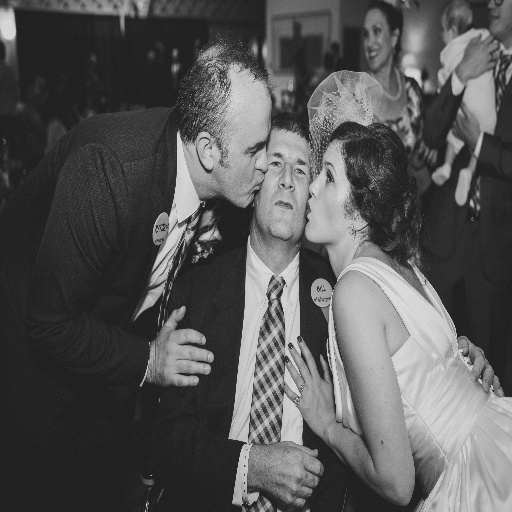hand: (146, 303, 215, 392), (281, 334, 336, 440), (249, 439, 325, 511), (456, 336, 504, 395), (461, 34, 501, 80), (451, 100, 481, 148), (416, 139, 439, 166)
